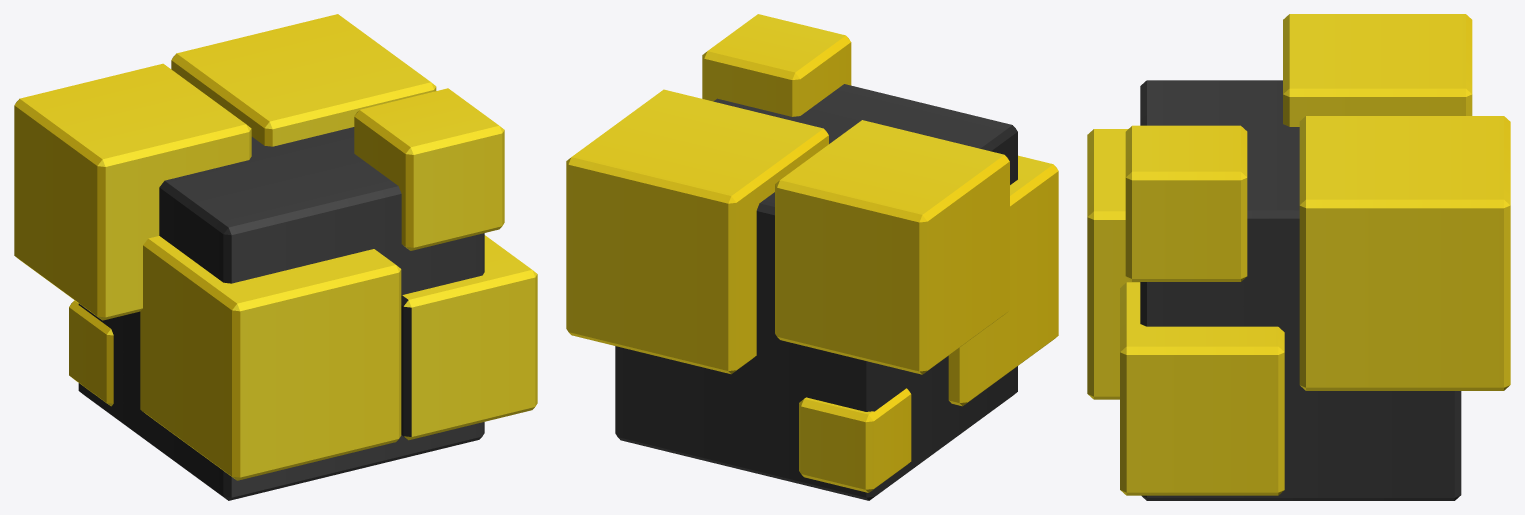
Rendered from GOLD CHUNK.fbx.
3 views of the same model, side by side, from view 1: azimuth 30°, elevation 25°; view 2: azimuth 150°, elevation 25°; view 3: azimuth 270°, elevation 25° (orthographic). The views are drawn at different scales.
Visible parts, largest first — view 1: Cube, Cube.003; view 2: Cube, Cube.003; view 3: Cube, Cube.003.
Boxes of the visible parts, <box> form: Cube: <box>14,14,537,480</box>; Cube.003: <box>78,127,484,500</box>; Cube: <box>566,14,1058,492</box>; Cube.003: <box>615,84,1017,500</box>; Cube: <box>1087,14,1510,495</box>; Cube.003: <box>1140,80,1461,500</box>.
Bounding box in the file's own units: 69.57 × 57.78 × 65.94.
